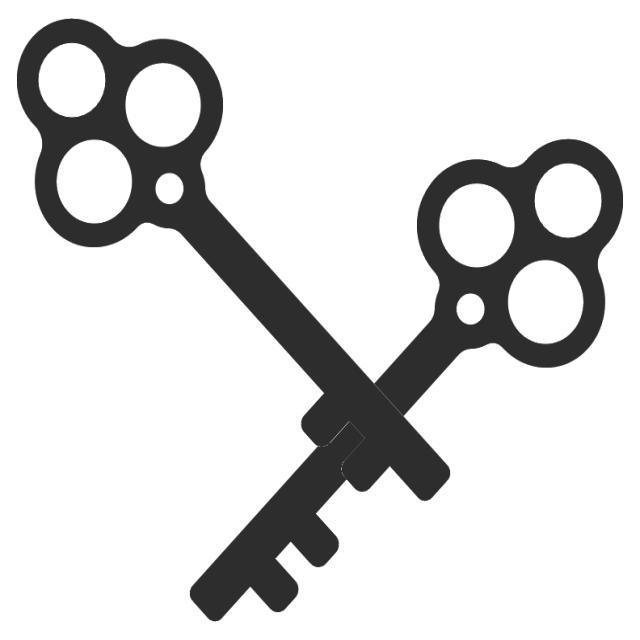key: (12, 8, 467, 512), (180, 131, 633, 631)
